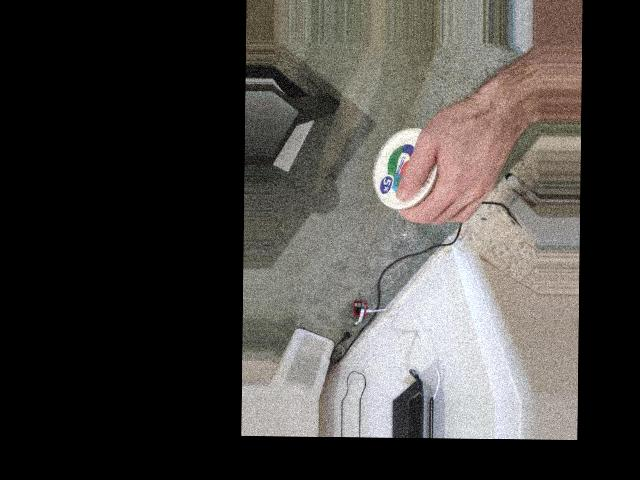cotage: (371, 127, 445, 211)
